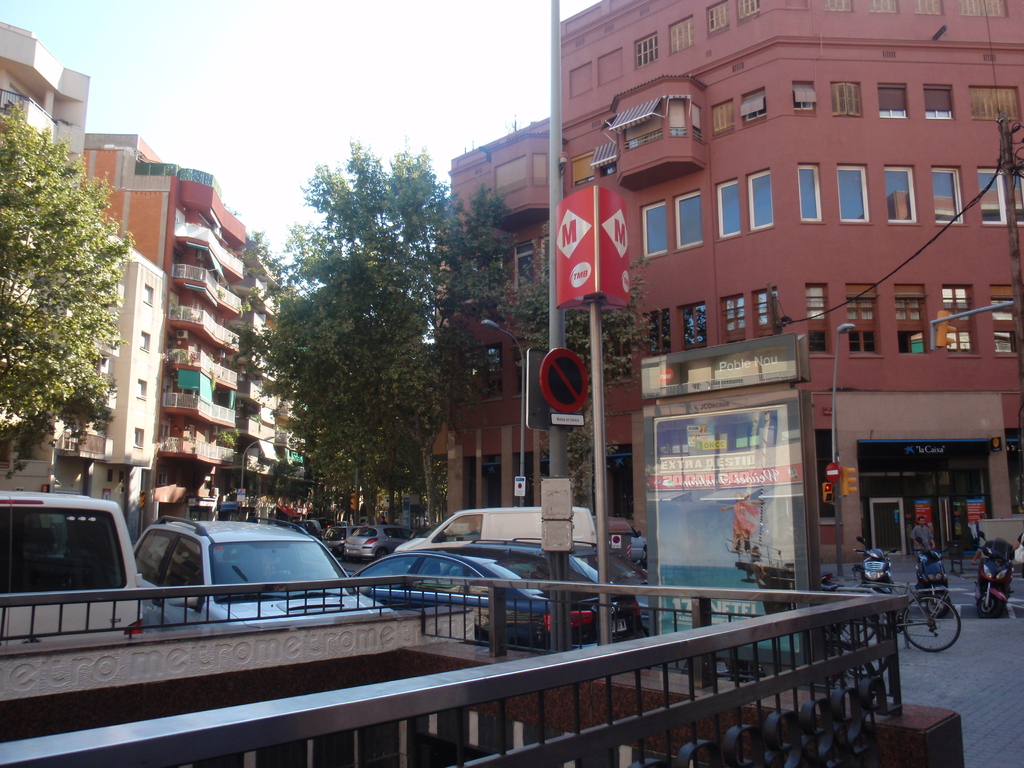Car: (348, 541, 649, 648), (129, 516, 396, 631), (0, 489, 142, 648), (345, 529, 417, 556)
